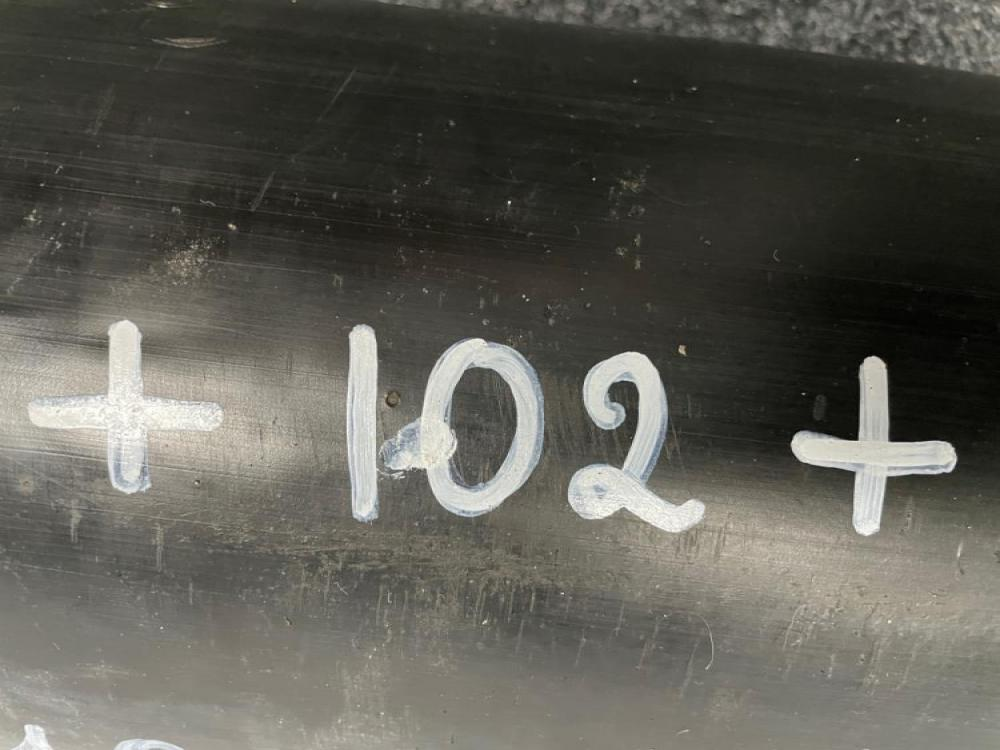+: (20, 324, 231, 492), (784, 355, 958, 538)
0: (414, 336, 554, 519)
1: (332, 316, 394, 527)
2: (564, 347, 717, 539)
